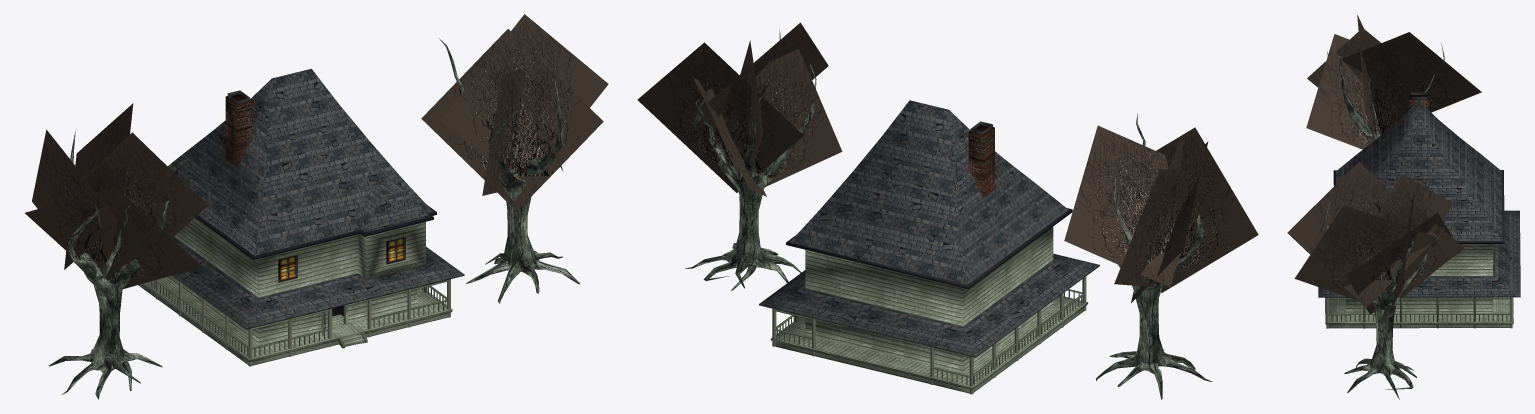
The model's file is Monster House.obj.
3 views of the same model, side by side, from view 1: azimuth 30°, elevation 25°; view 2: azimuth 150°, elevation 25°; view 3: azimuth 270°, elevation 25° (orthographic). The views are drawn at different scales.
Parts seen in each view (by area): view 1: Mesh_0063_Mesh_0063Mesh, Mesh_0025_Mesh_0025Mesh, Mesh_0027_Mesh_0027Mesh; view 2: Mesh_0063_Mesh_0063Mesh, Mesh_0025_Mesh_0025Mesh, Mesh_0027_Mesh_0027Mesh; view 3: Mesh_0025_Mesh_0025Mesh, Mesh_0063_Mesh_0063Mesh, Mesh_0027_Mesh_0027Mesh.
Part boxes in pixels (x1=…): Mesh_0063_Mesh_0063Mesh: x1=138, y1=68, x2=464, y2=366; Mesh_0025_Mesh_0025Mesh: x1=25, y1=14, x2=608, y2=288; Mesh_0027_Mesh_0027Mesh: x1=49, y1=38, x2=579, y2=399; Mesh_0063_Mesh_0063Mesh: x1=759, y1=100, x2=1099, y2=394; Mesh_0025_Mesh_0025Mesh: x1=637, y1=22, x2=1258, y2=302; Mesh_0027_Mesh_0027Mesh: x1=685, y1=29, x2=1212, y2=399; Mesh_0025_Mesh_0025Mesh: x1=1287, y1=15, x2=1481, y2=315; Mesh_0063_Mesh_0063Mesh: x1=1318, y1=92, x2=1520, y2=328; Mesh_0027_Mesh_0027Mesh: x1=1326, y1=43, x2=1444, y2=399.
Size of the model in its own units: 46.09 by 18.64 by 19.04.
5 materials, 5 textured.
